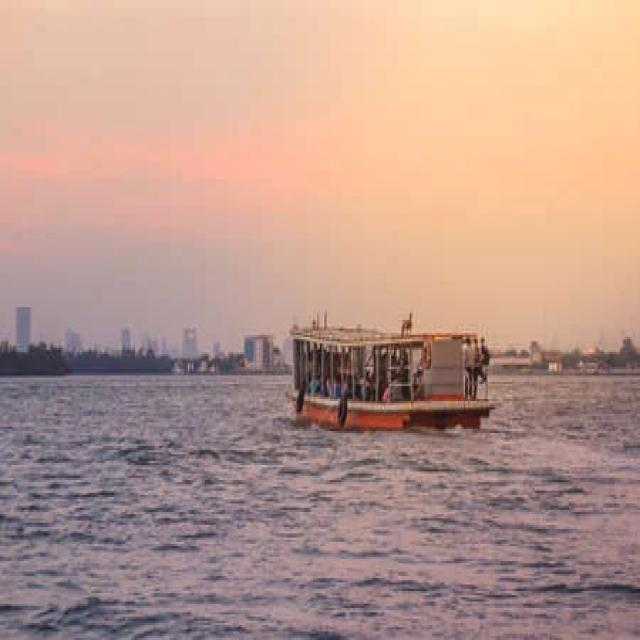houseboat: (286, 303, 502, 440)
